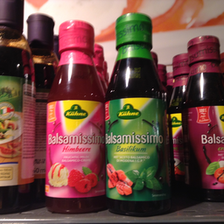vinegar: (103, 14, 184, 212), (39, 22, 111, 213), (181, 38, 224, 207)
